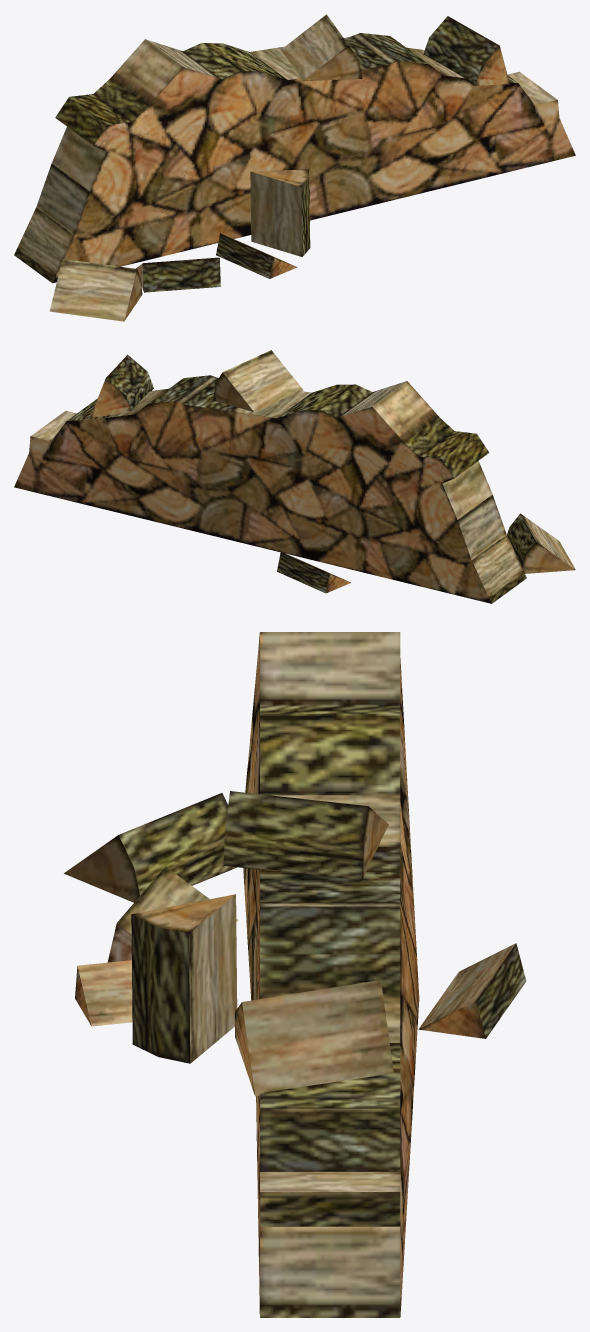
Rendered from polen1.glb.
3 views of the same model, one above another, from view 1: azimuth 30°, elevation 25°; view 2: azimuth 150°, elevation 25°; view 3: azimuth 270°, elevation 25° (orthographic). The views are drawn at different scales.
Parts seen in each view (by area): view 1: polen1-col; view 2: polen1-col; view 3: polen1-col.
Boxes of the visible parts, x1=… form: polen1-col: x1=14, y1=14, x2=575, y2=321; polen1-col: x1=14, y1=350, x2=575, y2=603; polen1-col: x1=64, y1=632, x2=526, y2=1317.
Size of the model in its own units: 4.21 by 1.37 by 1.68.
1 material, 1 textured.
